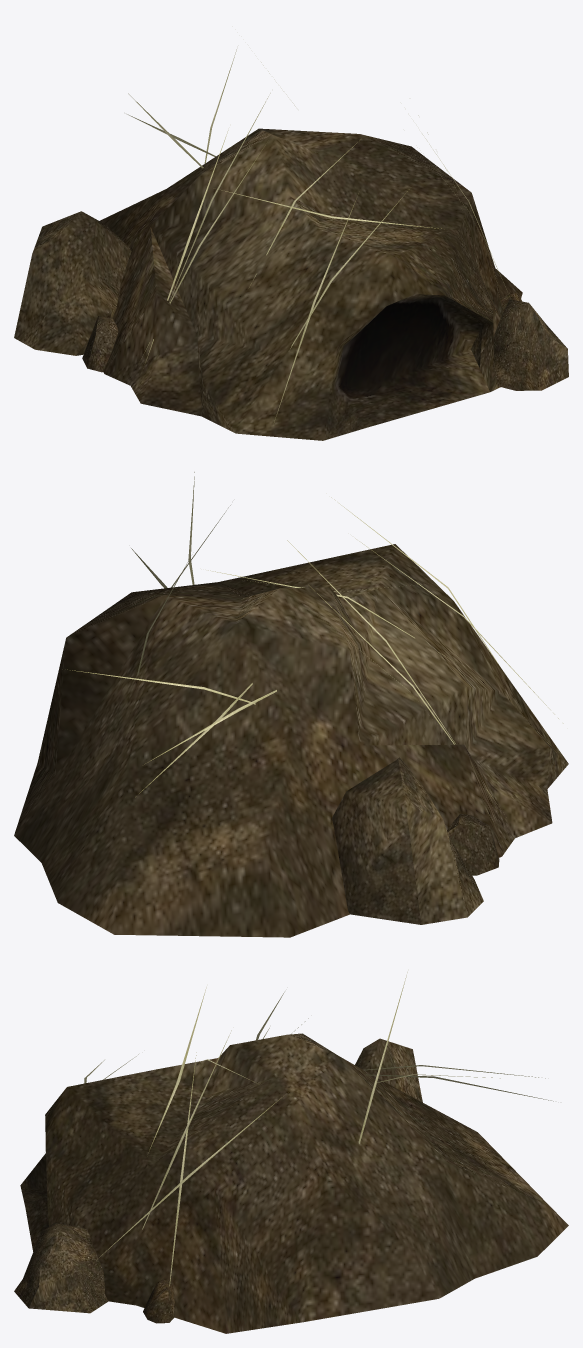
Rendered from pir_m_prp_enm_hive_scorpion.fbx.
The picture shows the model from 3 angles, top to bottom: view 1: azimuth 30°, elevation 25°; view 2: azimuth 150°, elevation 25°; view 3: azimuth 270°, elevation 25°; orthographic projection. The views are drawn at different scales.
Visible parts, largest first — view 1: scorpionHive, rock03, rock01, rock04; view 2: scorpionHive, rock03, rock04; view 3: scorpionHive, rock01, rock03, rock02.
Boxes of the visible parts, x1,y1,x2,y2 form: scorpionHive: (100, 128, 522, 440); rock03: (14, 211, 131, 355); rock01: (492, 299, 568, 390); rock04: (82, 316, 118, 372); scorpionHive: (14, 544, 568, 937); rock03: (332, 757, 483, 924); rock04: (447, 813, 499, 875); scorpionHive: (20, 1033, 568, 1333); rock01: (14, 1222, 108, 1313); rock03: (355, 1038, 422, 1102); rock02: (143, 1279, 175, 1323).
Size of the model in its own units: 980 by 579 by 1090.
Materials: 1 (1 with a texture image).
